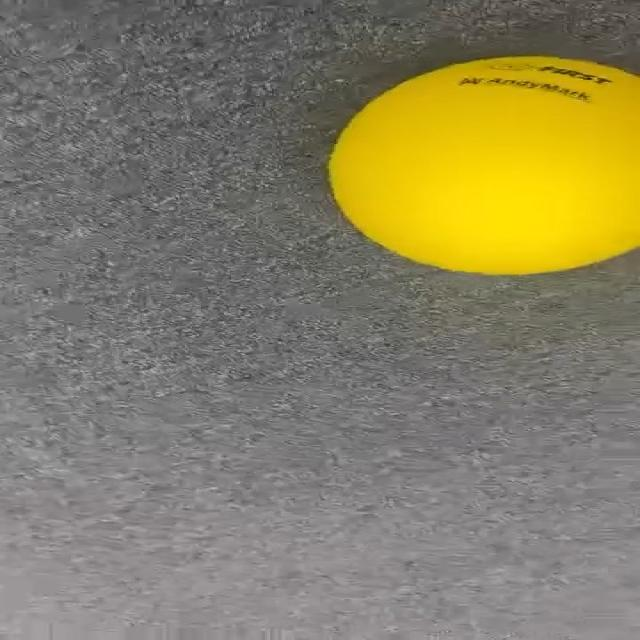Fuels: (322, 54, 640, 277)
